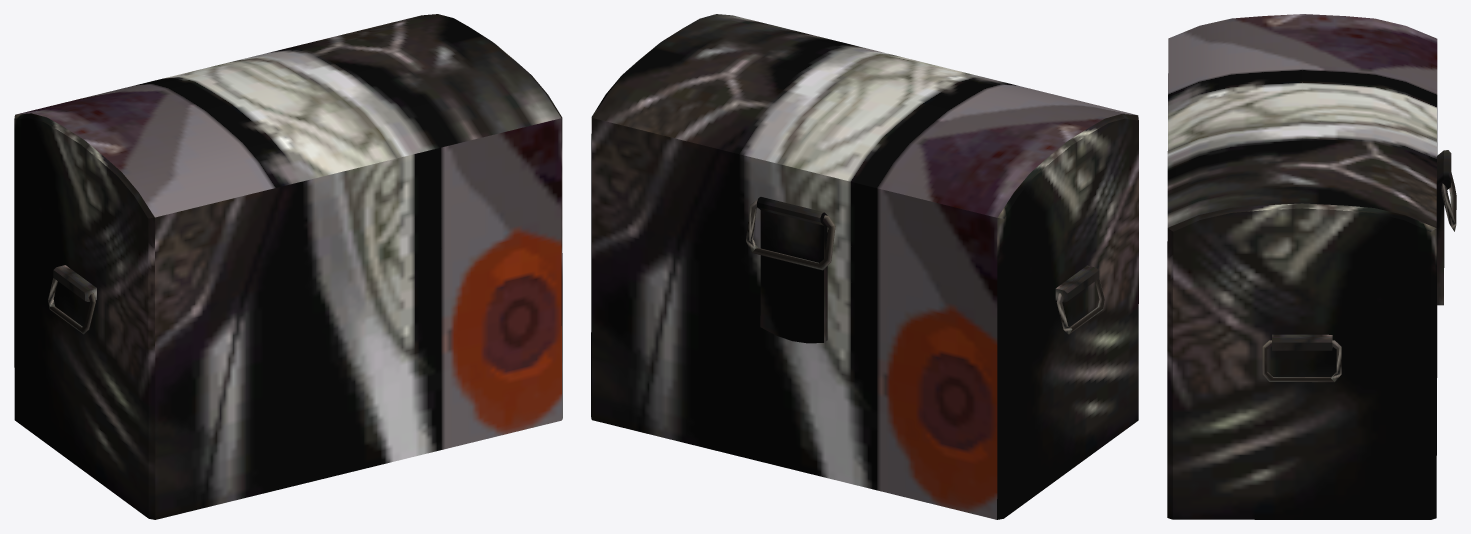
3 views of the same model, side by side, from view 1: azimuth 30°, elevation 25°; view 2: azimuth 150°, elevation 25°; view 3: azimuth 270°, elevation 25° (orthographic). The views are drawn at different scales.
Parts seen in each view (by area): view 1: e_nb_box_none; view 2: e_nb_box_none; view 3: e_nb_box_none.
Part boxes in pixels (box(x1,y1,x2,y2)): e_nb_box_none: box(14, 14, 562, 519); e_nb_box_none: box(591, 14, 1138, 519); e_nb_box_none: box(1167, 14, 1456, 519).
Bounding box in the file's own units: 83.81 × 58.94 × 49.
1 material, 1 textured.
